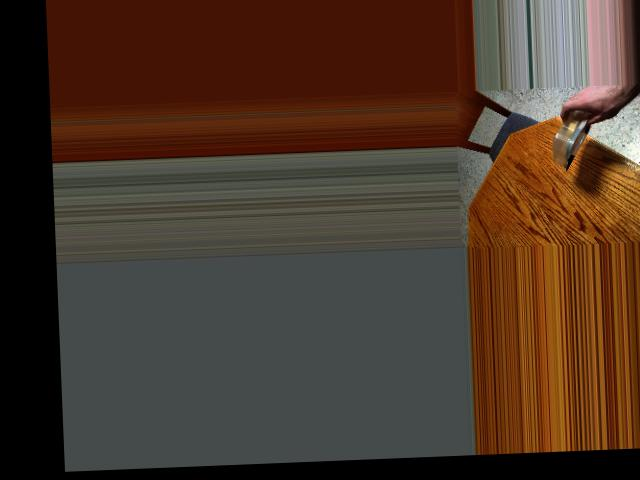cheese: (550, 106, 592, 169)
